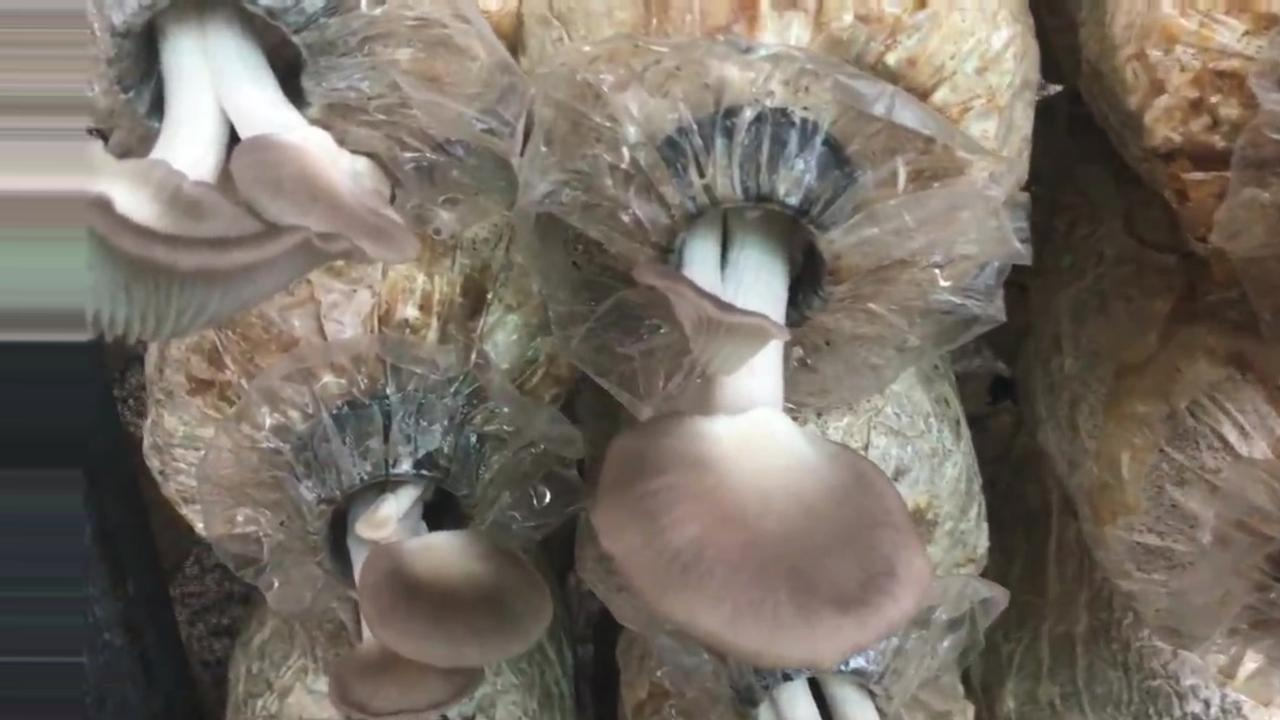nam: (573, 152, 934, 664), (1, 5, 421, 345), (329, 423, 556, 720)
